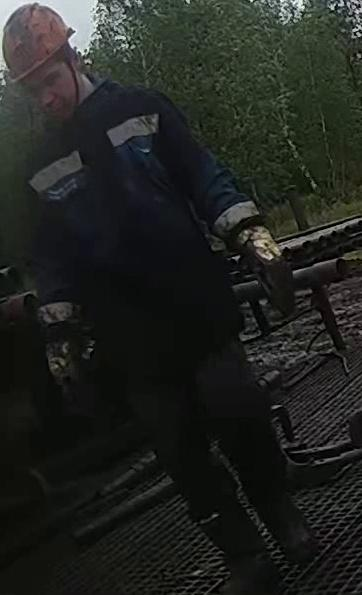gloves: (213, 200, 299, 322), (36, 299, 116, 412)
helmet: (1, 2, 75, 83)
vest: (21, 85, 241, 380)
